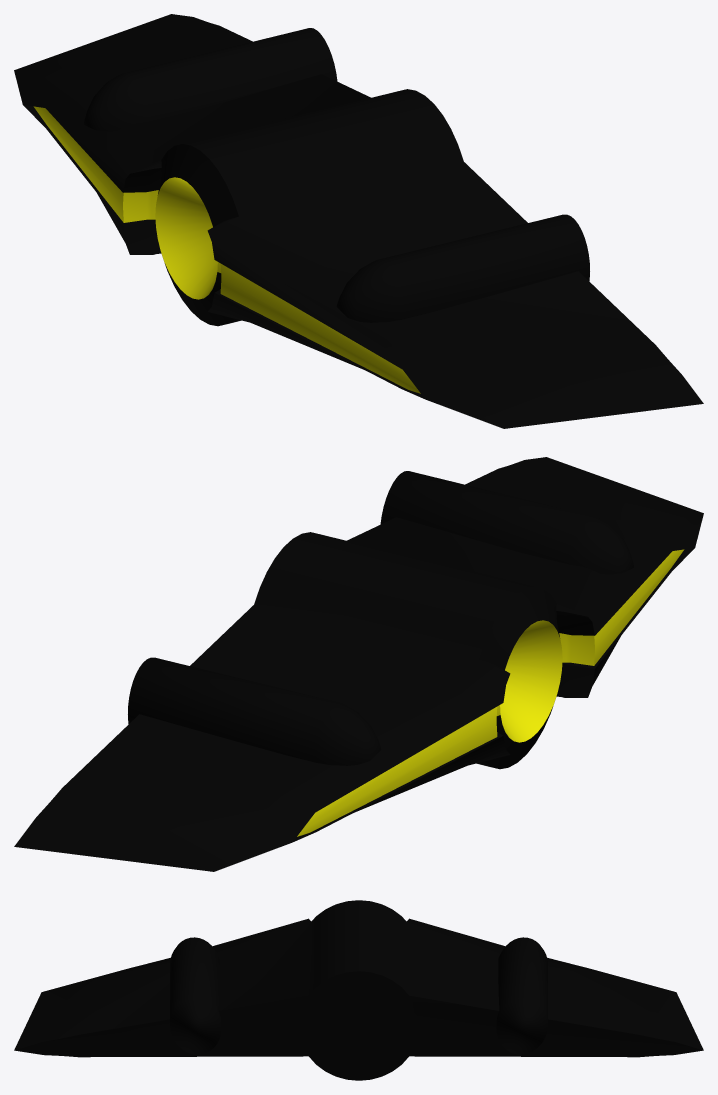
File: bomber.fbx
3 views of the same model, one above another, from view 1: azimuth 30°, elevation 25°; view 2: azimuth 150°, elevation 25°; view 3: azimuth 270°, elevation 25° (orthographic). The views are drawn at different scales.
Parts seen in each view (by area): view 1: Cylinder, Cylinder.002, Cylinder.001; view 2: Cylinder, Cylinder.001, Cylinder.002; view 3: Cylinder, Cylinder.001, Cylinder.002.
Part boxes in pixels (x1,y1,x2,y2): Cylinder: (14, 14, 703, 428); Cylinder.002: (336, 214, 589, 322); Cylinder.001: (84, 28, 337, 131); Cylinder: (14, 457, 703, 871); Cylinder.001: (128, 657, 381, 765); Cylinder.002: (380, 471, 633, 574); Cylinder: (14, 900, 703, 1080); Cylinder.001: (496, 937, 547, 1054); Cylinder.002: (170, 937, 221, 1054).
Size of the model in its own units: 341 by 200 by 1142.
